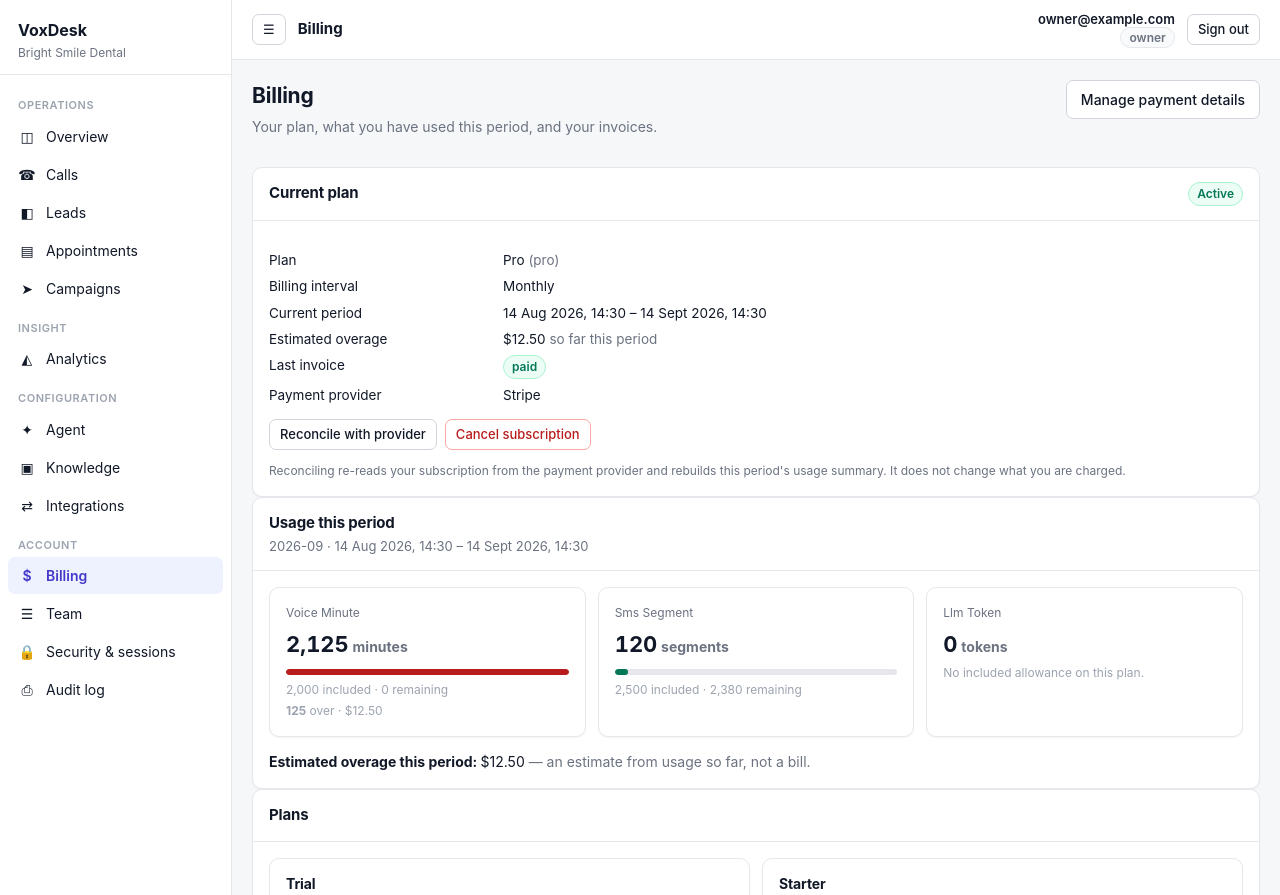
portal › refuses to open a non-https URL
Check: the heading "Billing" is shown, box [252,83,314,108]
Click the button "Manage payment details" at (1163, 100), box [1066,80,1260,119]
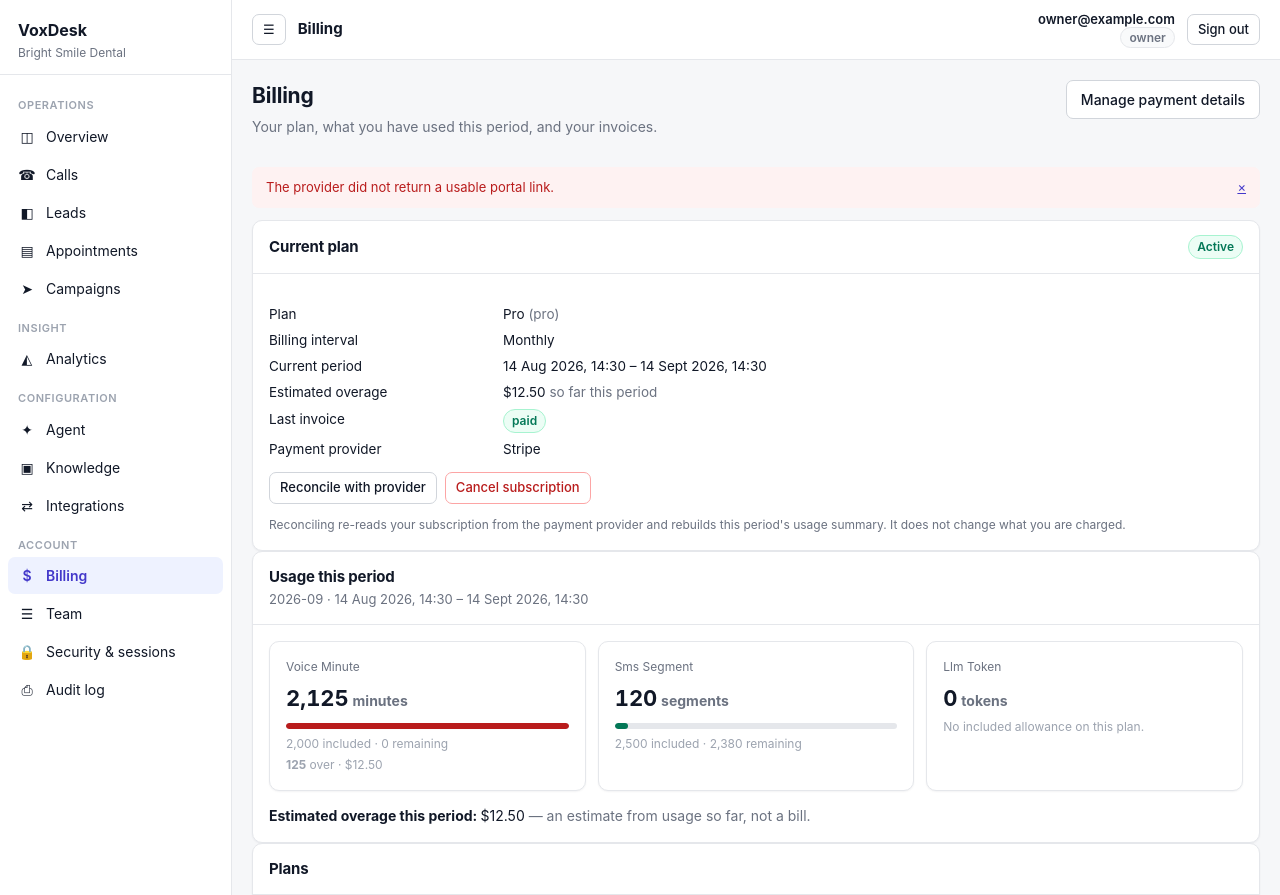
Check: the text "The provider did not return a usable portal link." is shown, box [266,178,554,194]
